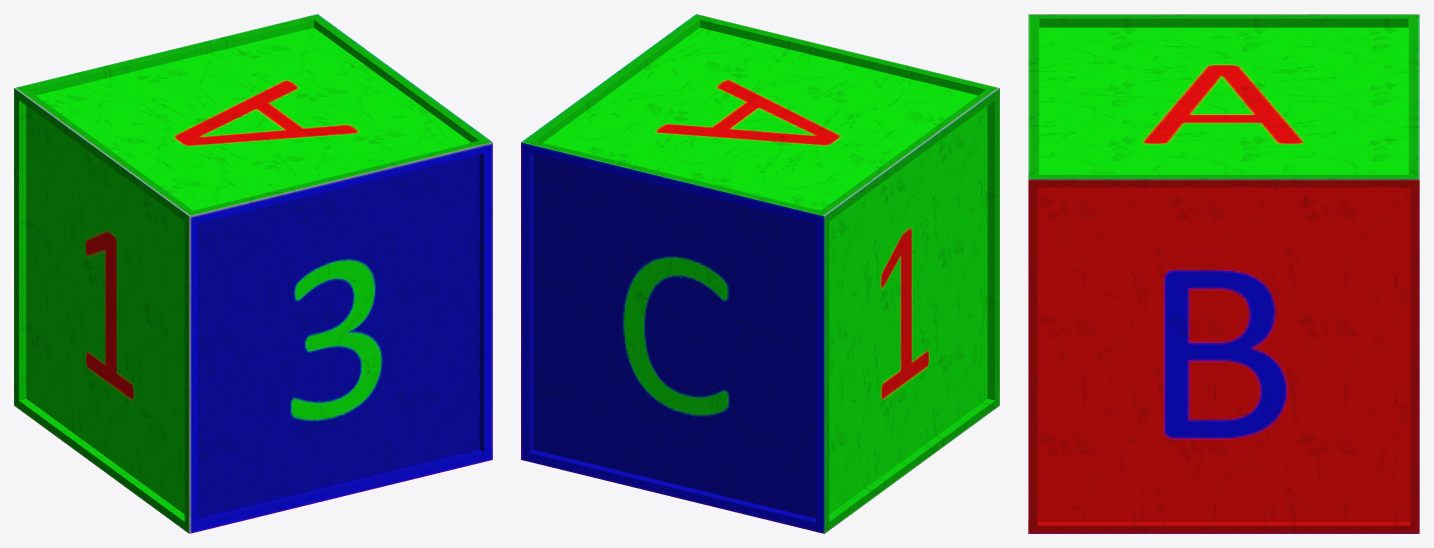
File: abc_block.fbx
3 views of the same model, side by side, from view 1: azimuth 30°, elevation 25°; view 2: azimuth 150°, elevation 25°; view 3: azimuth 270°, elevation 25° (orthographic). The views are drawn at different scales.
Visible parts, largest first — view 1: abc_block; view 2: abc_block; view 3: abc_block.
Boxes of the visible parts, x1,y1,x2,y2 form: abc_block: (14, 14, 492, 533); abc_block: (521, 14, 999, 533); abc_block: (1028, 14, 1419, 533).
Size of the model in its own units: 200 by 200 by 200.
1 material, 1 textured.
